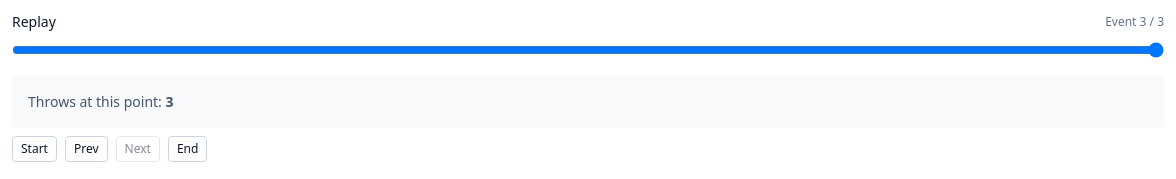
Test: ReplayScrubber › renders generic replay showing throw count at position for non-x01 modes
The width and height of the screenshot is (1176, 179).
Set the slider with test id "replay-slider" to "2" at (777, 50), box 12,42 -> 1164,58
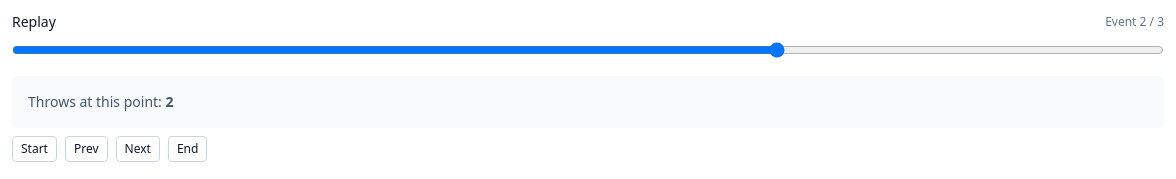
Expected: the element with test id "replay-generic" reads "Throws at this point: 2", 12,76 -> 1164,128
